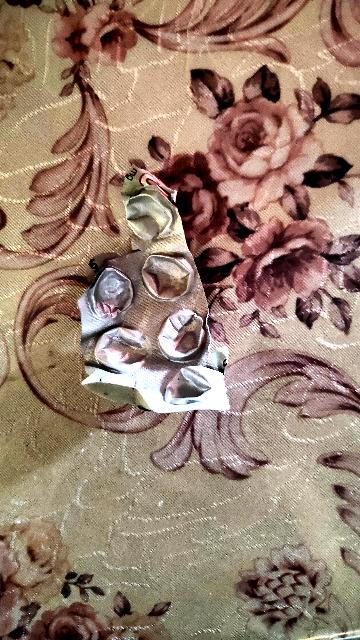medicine: (45, 164, 251, 451)
